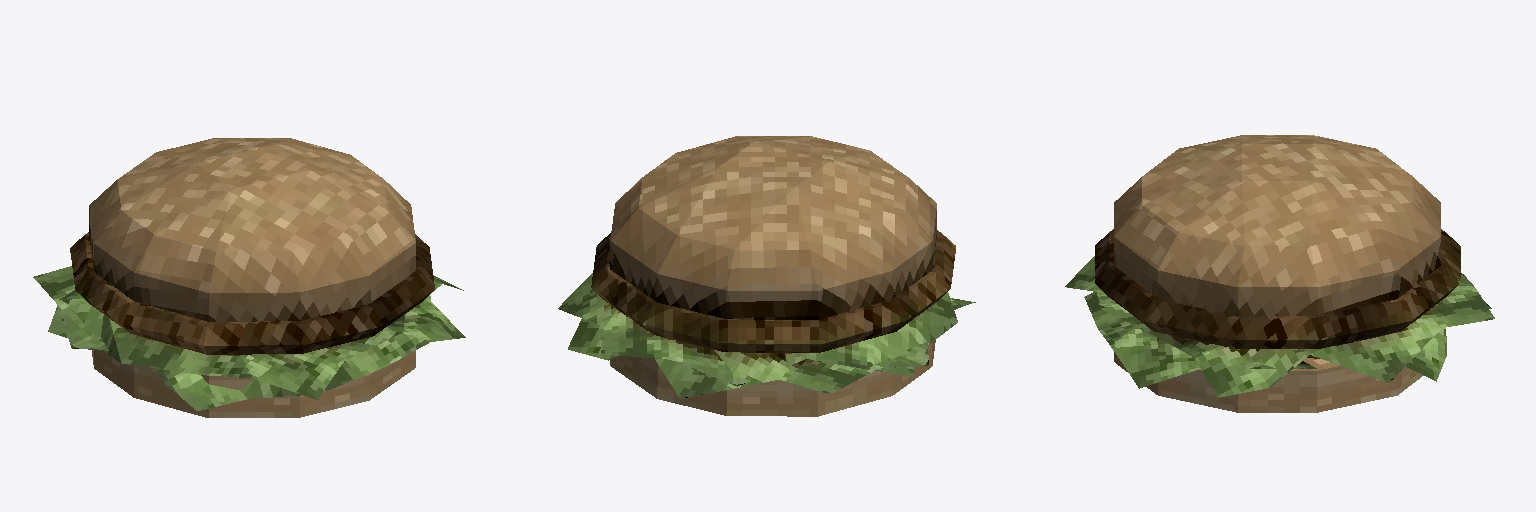
3 views of the same model, side by side, from view 1: azimuth 30°, elevation 25°; view 2: azimuth 150°, elevation 25°; view 3: azimuth 270°, elevation 25° (orthographic).
Bounding box in the file's own units: 0.6221 × 0.3063 × 0.6552.
1 materials, 1 textured.